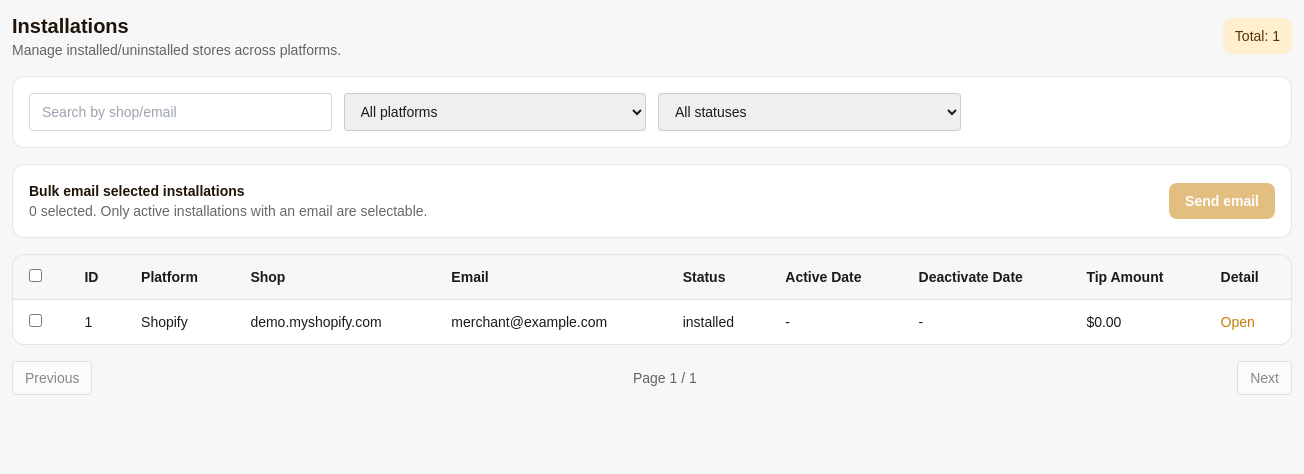
Test: InstallationsPage › shows failed recipient detail and keeps failed rows selected
The image size is (1304, 474).
Expected: the text "demo.myshopify.com" is shown, x1=234 y1=300 x2=435 y2=344
Click the checkbox named "Select demo.myshopify.com": (36, 320) x1=29 y1=314 x2=42 y2=327
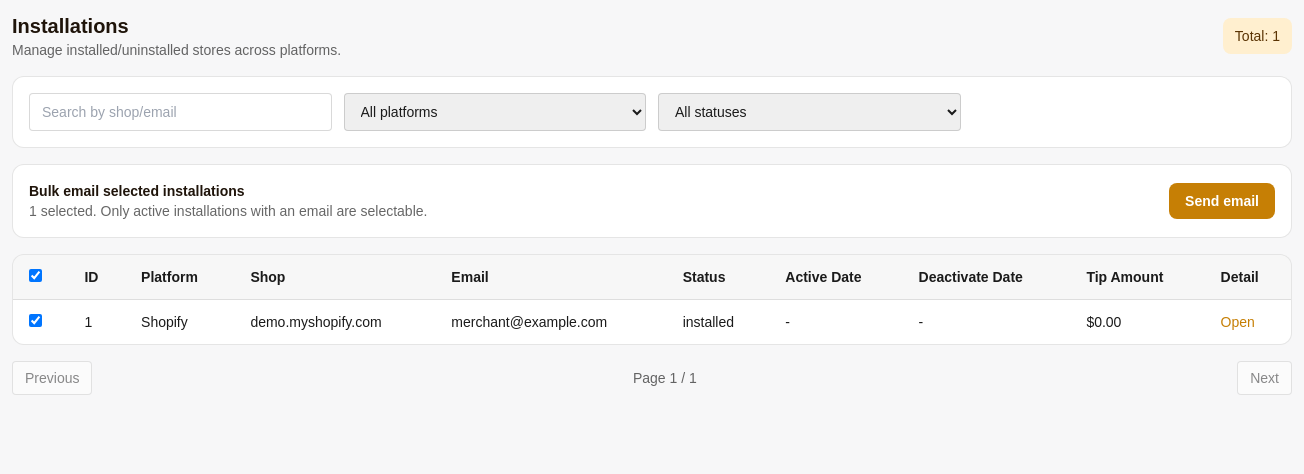
Click the button "Send email": (1222, 201) x1=1169 y1=183 x2=1275 y2=219
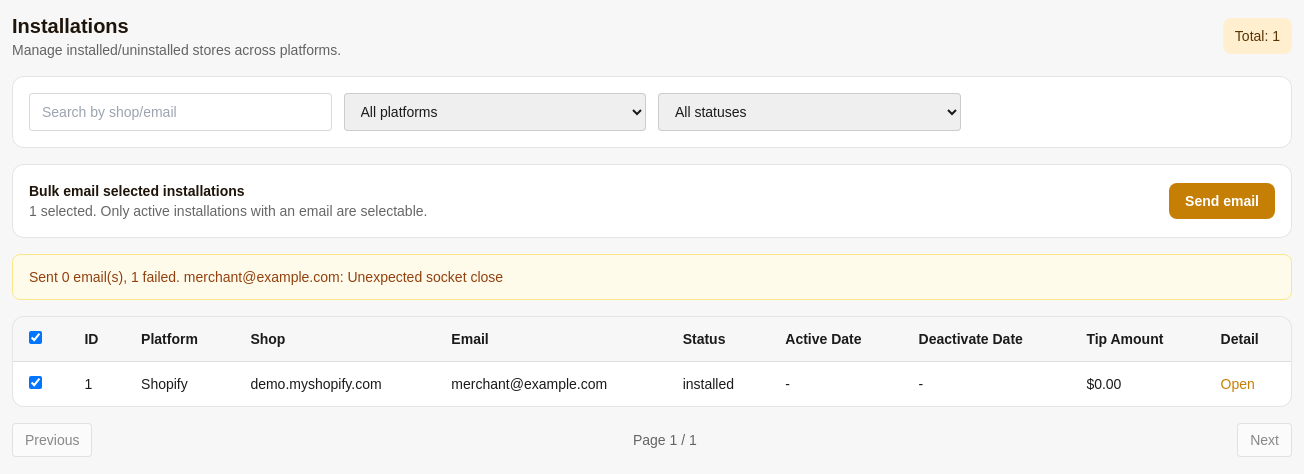
Result: the checkbox named "Select demo.myshopify.com" is checked at x1=29 y1=376 x2=42 y2=389
Result: the text "Sent 0 email(s), 1 failed. merchant@example.com: Unexpected socket close" is shown at x1=12 y1=254 x2=1292 y2=300
